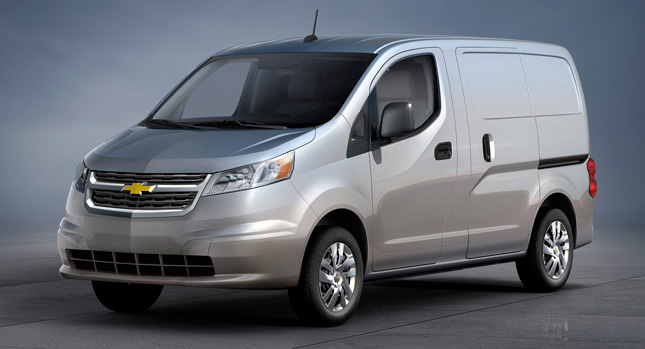van: (54, 31, 598, 326)
